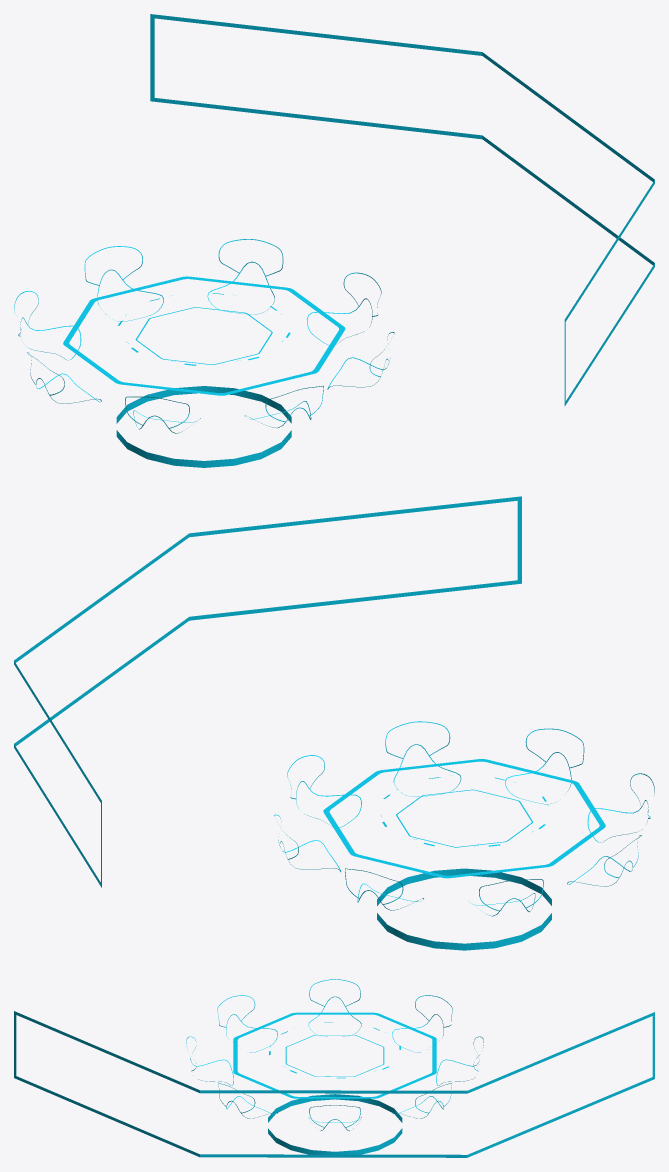
File: 24_Glow_2.FBX
3 renders of one model, top to bottom at view 1: azimuth 30°, elevation 25°; view 2: azimuth 150°, elevation 25°; view 3: azimuth 270°, elevation 25°, orthographic. The views are drawn at different scales.
Visible parts, largest first — view 1: Glow; view 2: Glow; view 3: Glow.
Boxes of the visible parts, bbox=[...] form: Glow: bbox=[14, 14, 654, 467]; Glow: bbox=[14, 496, 654, 950]; Glow: bbox=[14, 979, 654, 1157].
Bounding box in the file's own units: 7356 × 2995 × 9986.
